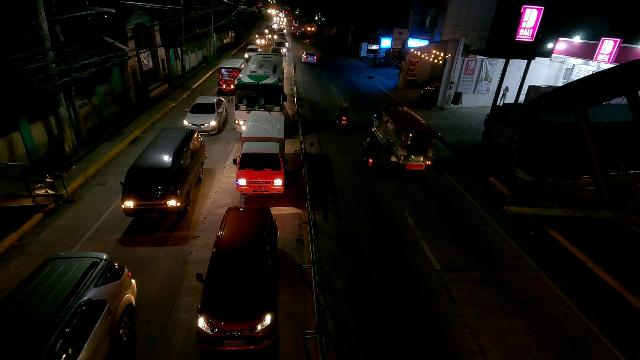bus: (233, 53, 285, 131)
car: (0, 252, 136, 360), (196, 207, 283, 354), (181, 94, 228, 136), (244, 44, 262, 59), (273, 39, 288, 54), (301, 50, 317, 64)
jeepney: (372, 106, 441, 173), (216, 59, 247, 95), (255, 34, 268, 47)
motorcycle: (360, 137, 381, 169), (336, 100, 348, 128)
van: (120, 126, 206, 224), (234, 108, 288, 203)
